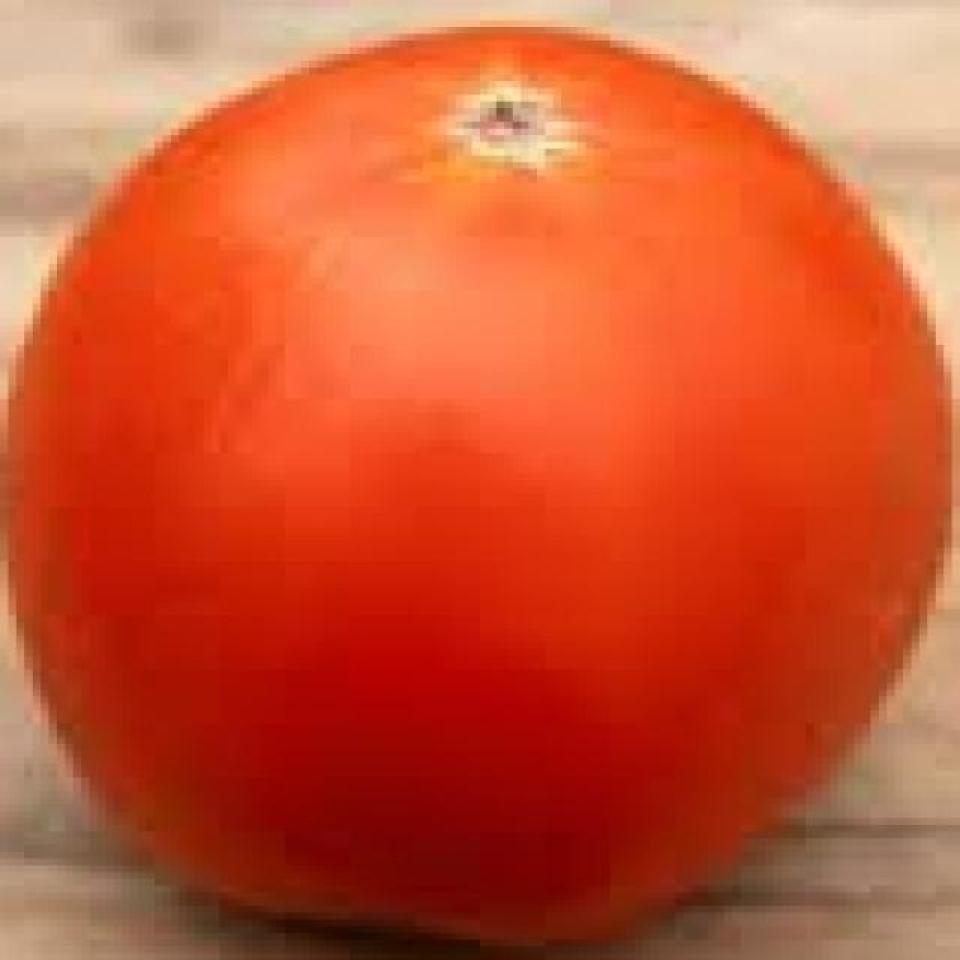Healthy: (46, 7, 959, 960)
